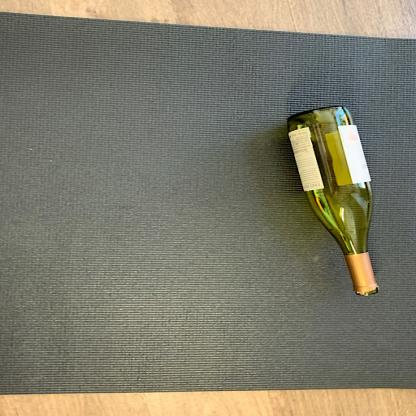trash: (284, 103, 381, 298)
